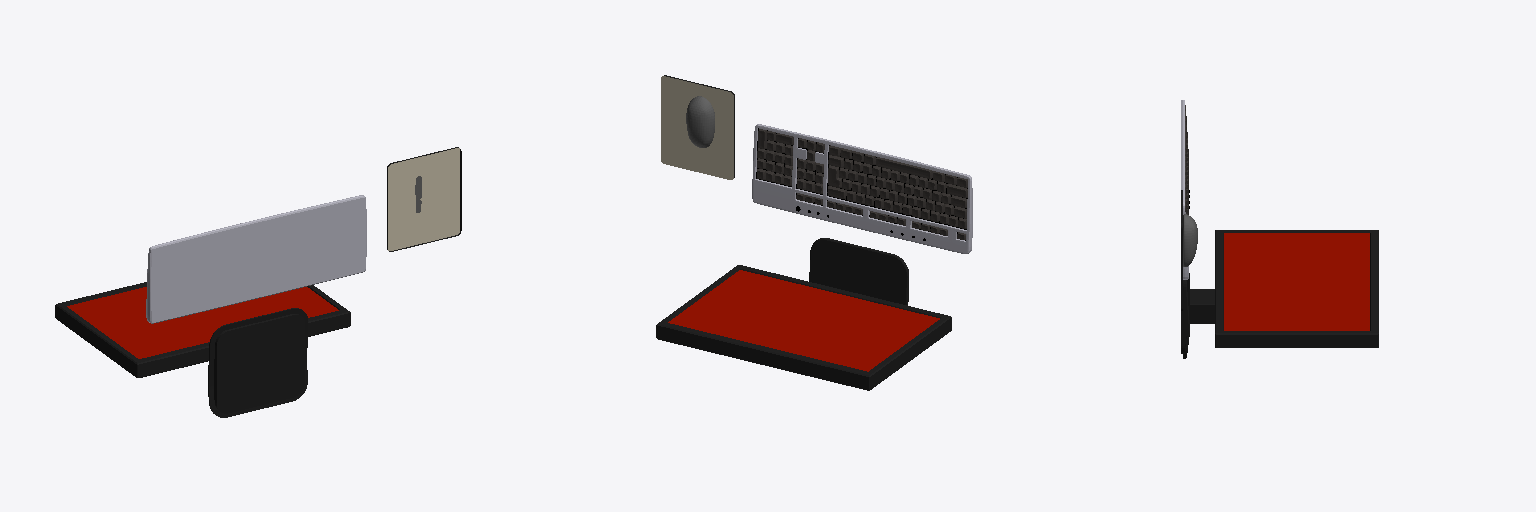
File: Monitor_Tec_Mouse.obj
3 renders of one model, left to right at view 1: azimuth 30°, elevation 25°; view 2: azimuth 150°, elevation 25°; view 3: azimuth 270°, elevation 25°, orthographic.
Visible parts, largest first — view 1: 01j7_monit, 01j7_tecla, 01j7_mous0; view 2: 01j7_monit, 01j7_tecla, 01j7_mous0, 01j7_mouse; view 3: 01j7_monit, 01j7_tecla, 01j7_mouse.
Boxes of the visible parts, box(x1,y1,x2,y2) form: 01j7_monit: box(55, 282, 350, 417); 01j7_tecla: box(146, 195, 366, 323); 01j7_mous0: box(387, 147, 461, 251); 01j7_monit: box(656, 238, 951, 390); 01j7_tecla: box(752, 124, 972, 253); 01j7_mous0: box(661, 75, 734, 179); 01j7_mouse: box(686, 96, 714, 147); 01j7_monit: box(1181, 230, 1378, 358); 01j7_tecla: box(1181, 100, 1189, 279); 01j7_mouse: box(1183, 214, 1197, 266).
Bounding box in the file's own units: 737 × 485 × 406.